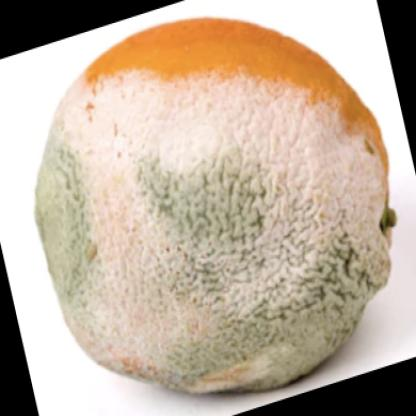rotten: (39, 18, 393, 400)
